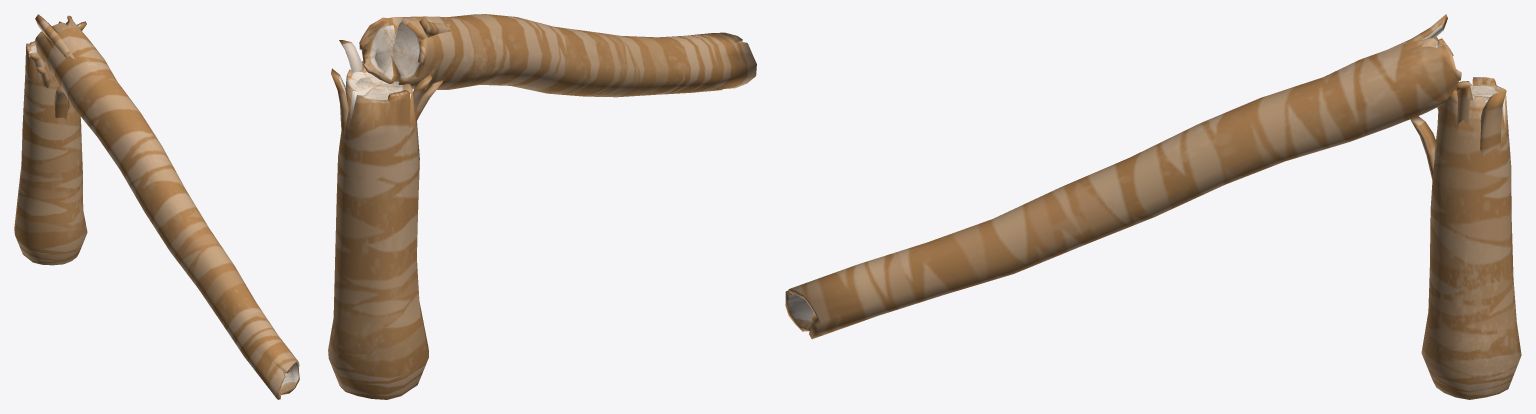
Rendered from P_CoconutPalmFallen03.obj.
3 renders of one model, left to right at view 1: azimuth 30°, elevation 25°; view 2: azimuth 150°, elevation 25°; view 3: azimuth 270°, elevation 25°, orthographic. The views are drawn at different scales.
Bounding box in the file's own units: 0.9656 × 3.67 × 6.93.
